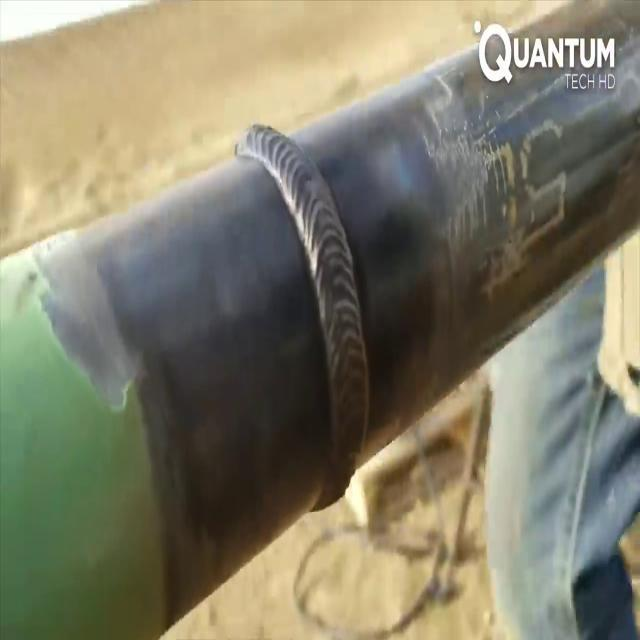Good Welding: (238, 118, 369, 506)
